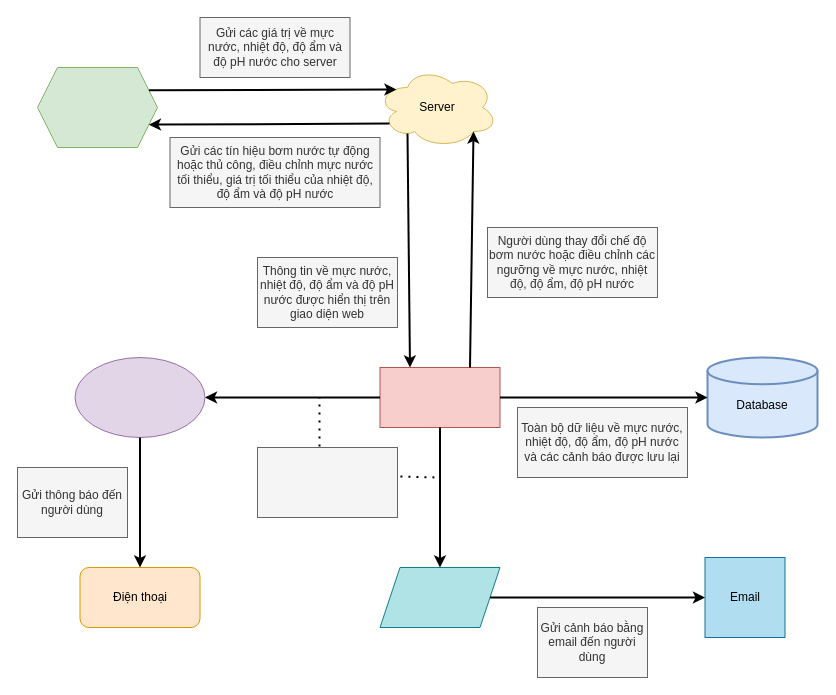
The diagram is 836 pixels wide and 695 high, and some of its shapes have lost their labels. The centre of each missing label's shape, as x and y in pixels:
"Arduino ESP32" goes at (x=97, y=107).
"Gửi tín hiệu cảnh báo về mực nước, nhiệt độ, độ ẩm và độ pH nước khi chạm ngưỡng" goes at (x=327, y=482).
"Notification Service" goes at (x=139, y=397).
"SMTP service" goes at (x=439, y=597).
"Website" goes at (x=439, y=397).
